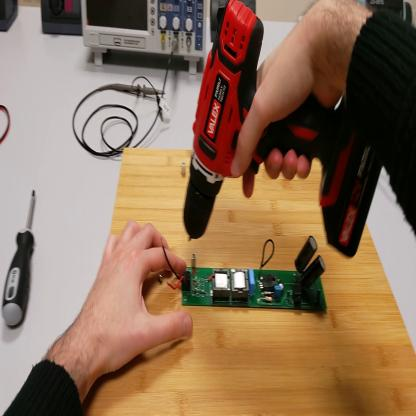electric screwdriver: (172, 2, 386, 263)
hand: (230, 19, 349, 193), (82, 218, 192, 378)
high voltage board: (163, 236, 330, 312)
oscilloscope: (82, 1, 211, 75)
oscilloscope probe tip: (107, 83, 168, 103)
screwdriver-: (4, 187, 37, 330)
socket: (41, 3, 85, 36), (1, 2, 20, 35)
working area: (80, 147, 416, 415)
